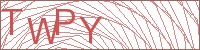P: (55, 7, 76, 37)
T: (1, 7, 23, 38)
W: (25, 16, 59, 46)
Y: (78, 15, 105, 45)
